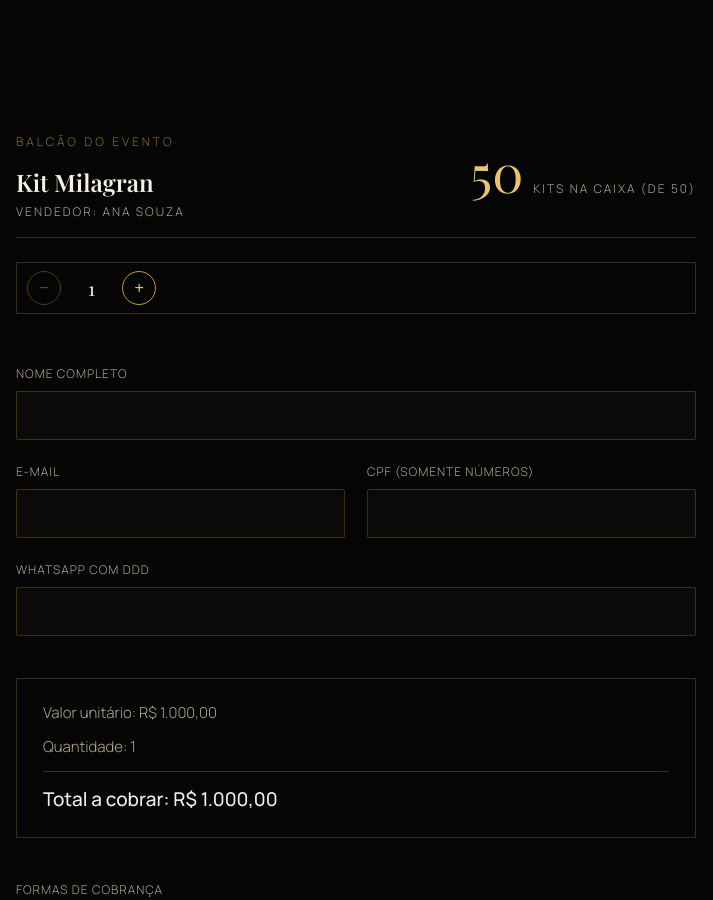
Test: VendaPresencial › sucesso mostra VENDA APROVADA, libera a entrega e atualiza o contador
The image size is (713, 900).
Check: the text with test id "kits-restantes" reads "50", box [471,137,523,206]
Type "Maria Aparecida" into the field labelled "Nome completo".
click(356, 416); type("Maria Aparecida")  # box [16,391,696,440]
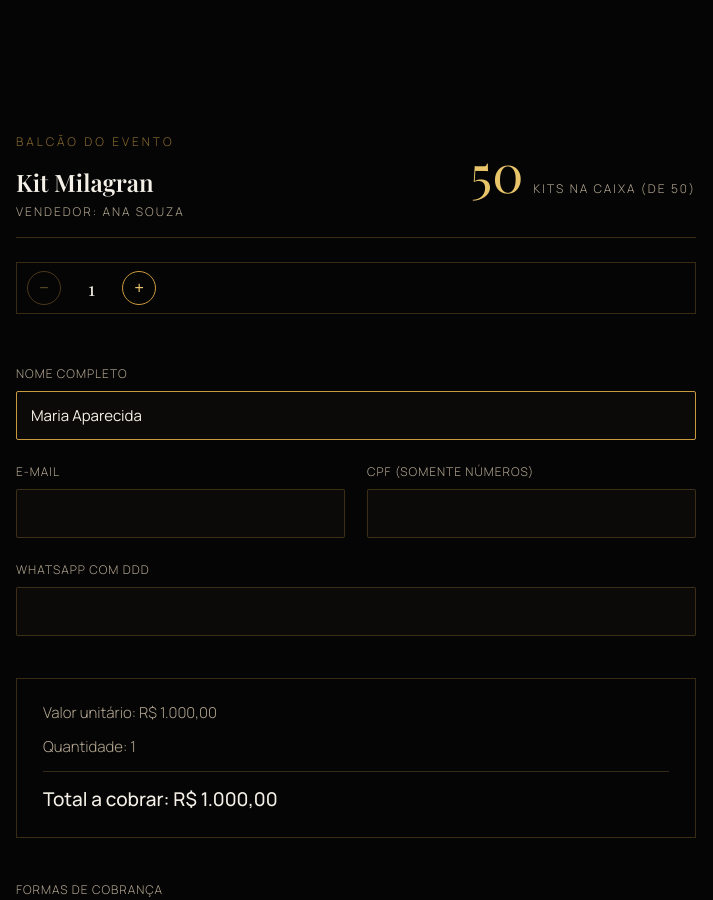
Type "maria.balcao@exemplo.com" into the field labelled "E-mail".
click(180, 514); type("maria.balcao@exemplo.com")  # box [16,489,345,538]
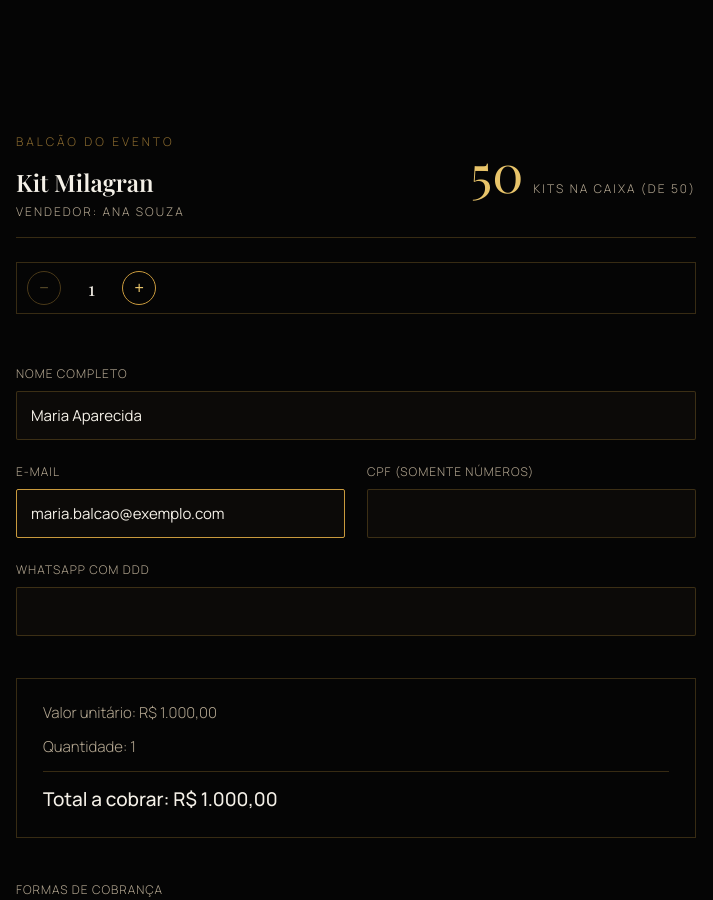
Type "12345678901" into the field labelled "CPF (somente números)".
click(532, 514); type("12345678901")  # box [367,489,696,538]
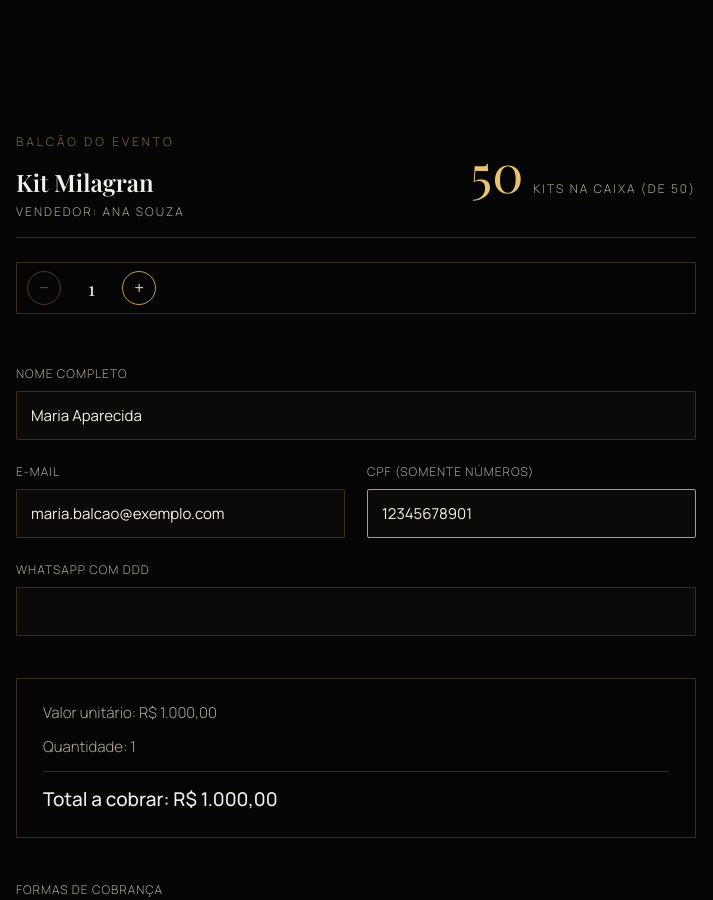
Type "11988887777" into the field labelled "WhatsApp com DDD".
click(356, 612); type("11988887777")  # box [16,587,696,636]
(page scrolled)
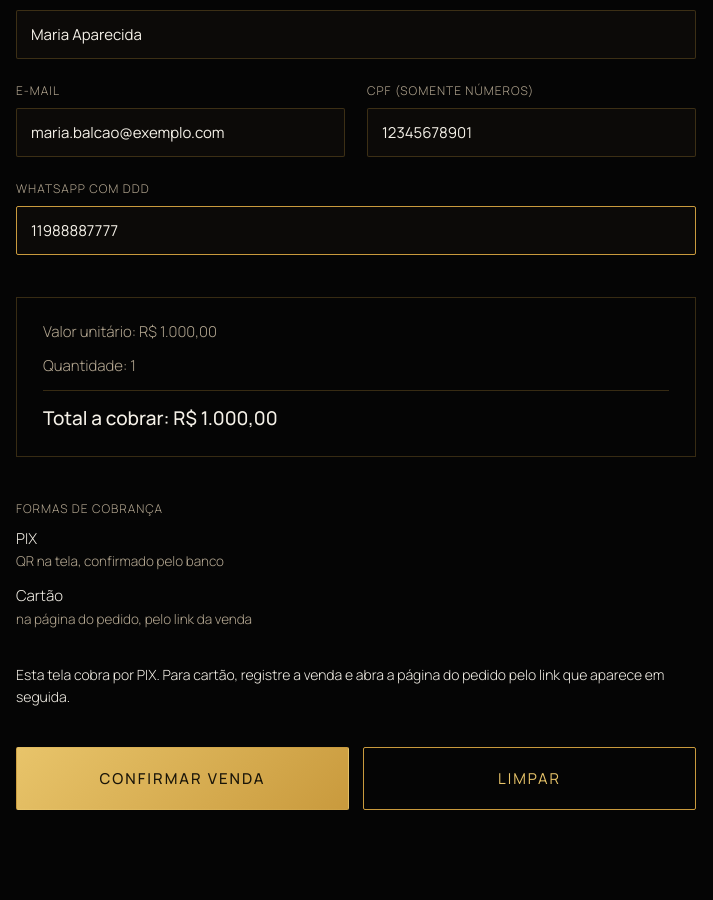
Click the button "Confirmar venda".
click(182, 778)  # box [16,747,349,810]
(page scrolled)
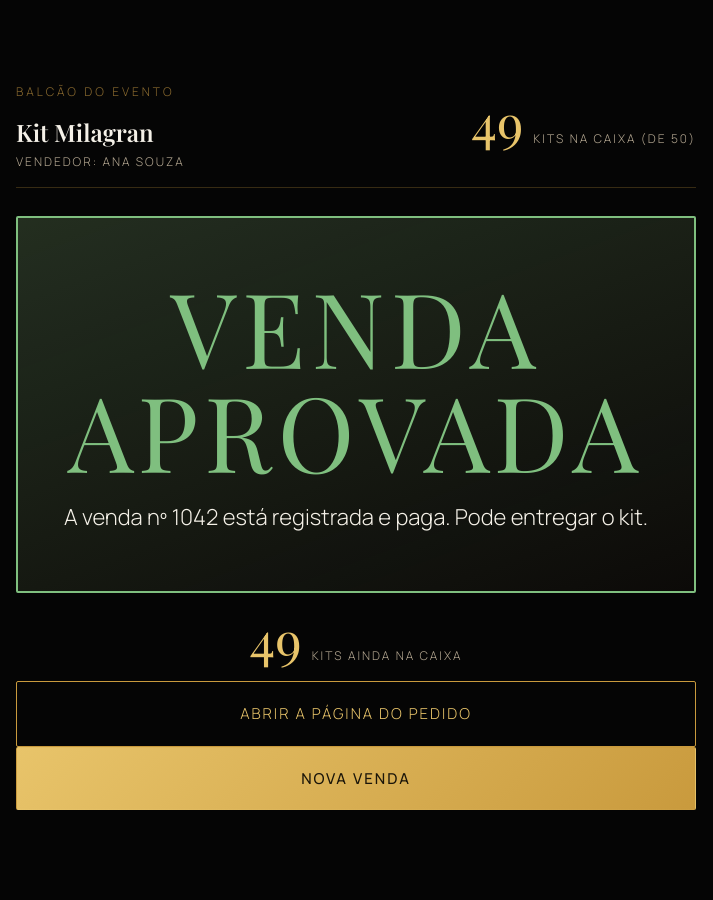
Check: the element with test id "desfecho" shows "Venda aprovada", box [68,256,644,499]
Check: the element with test id "desfecho" shows "está registrada e paga", box [64,502,648,532]
Check: the element with test id "desfecho" shows "Pode entregar o kit", box [64,502,648,532]
